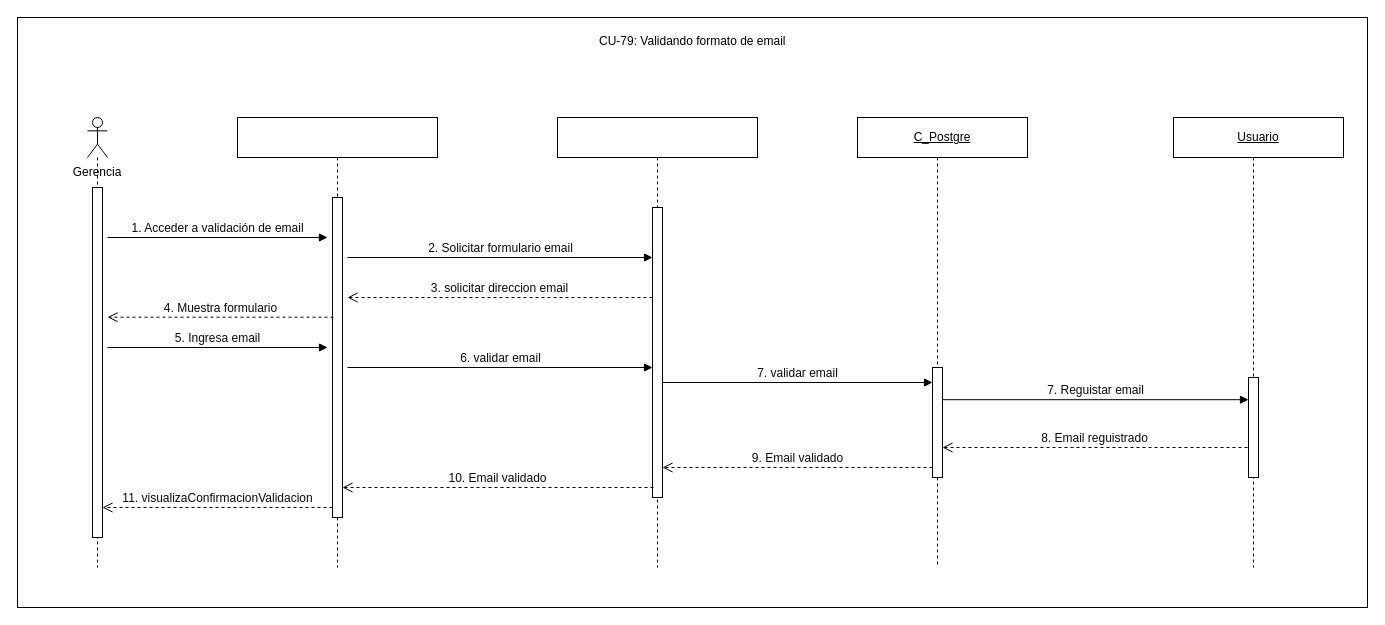
Some shapes in this 1385 by 625 pixel diagram are drawn without their labels. The shapes that lost their labels are listed below. From the top down, each one's box as (x1, y1, x2, y2) in pixels, then its label:
(236, 116, 438, 568): V_NuevoUsuario
(556, 116, 758, 568): C_usuarios
